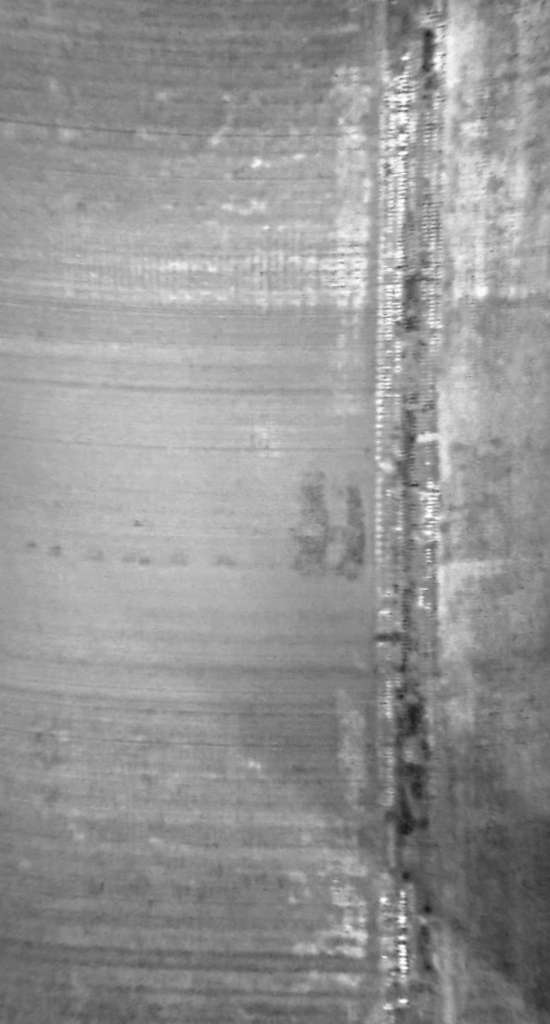splice: (371, 3, 457, 1024)
